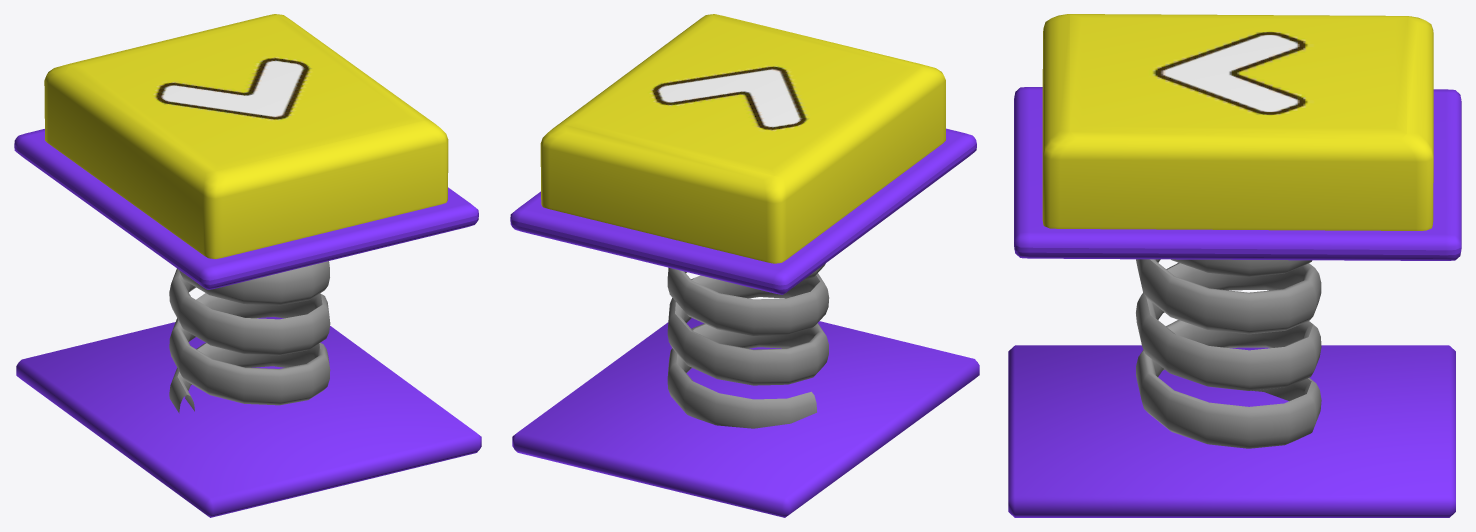
File: Jump Pad Yellow.fbx
The picture shows the model from 3 angles, left to right: view 1: azimuth 30°, elevation 25°; view 2: azimuth 150°, elevation 25°; view 3: azimuth 270°, elevation 25°; orthographic projection. The views are drawn at different scales.
Visible parts, largest first — view 1: jump_ramp, Jump Pad Yellow; view 2: jump_ramp, Jump Pad Yellow; view 3: jump_ramp, Jump Pad Yellow.
Part boxes in pixels (box(x1,y1,x2,y2)): jump_ramp: box(14, 14, 478, 413); Jump Pad Yellow: box(16, 317, 481, 517); jump_ramp: box(510, 14, 976, 428); Jump Pad Yellow: box(512, 318, 979, 517); jump_ramp: box(1014, 14, 1461, 448); Jump Pad Yellow: box(1008, 345, 1455, 517).
Size of the model in its own units: 3.3 by 3.68 by 4.08.
